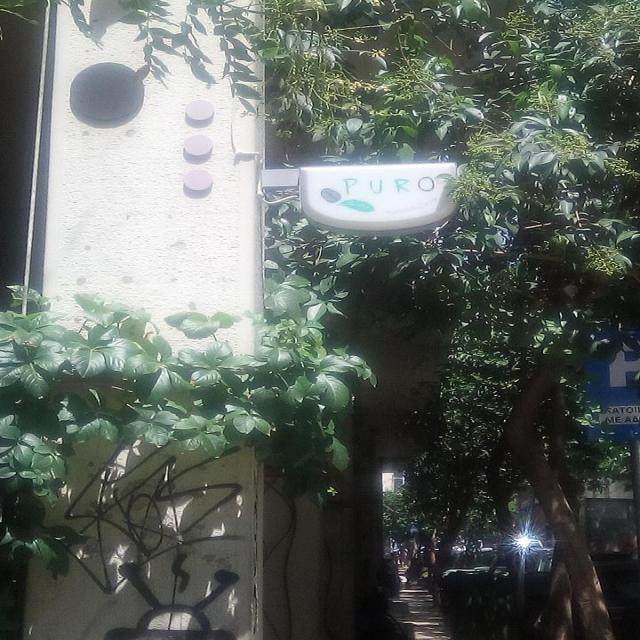nonspitting: (58, 433, 242, 593), (105, 553, 239, 640)
